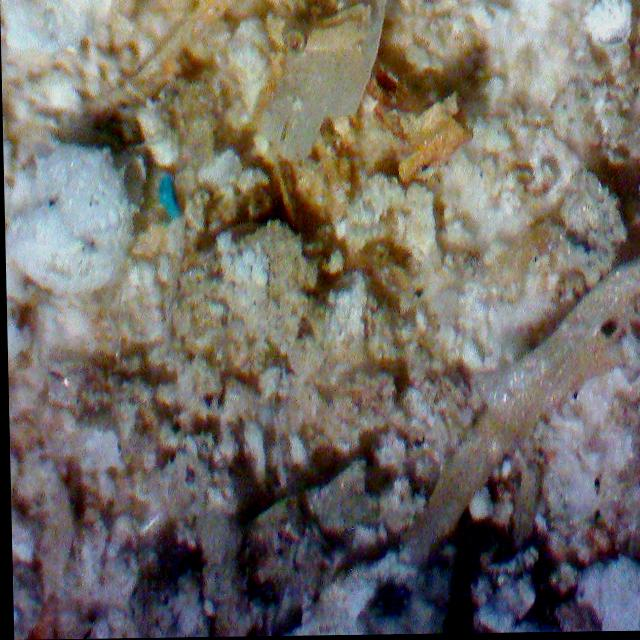microplastic: (156, 171, 180, 222)
